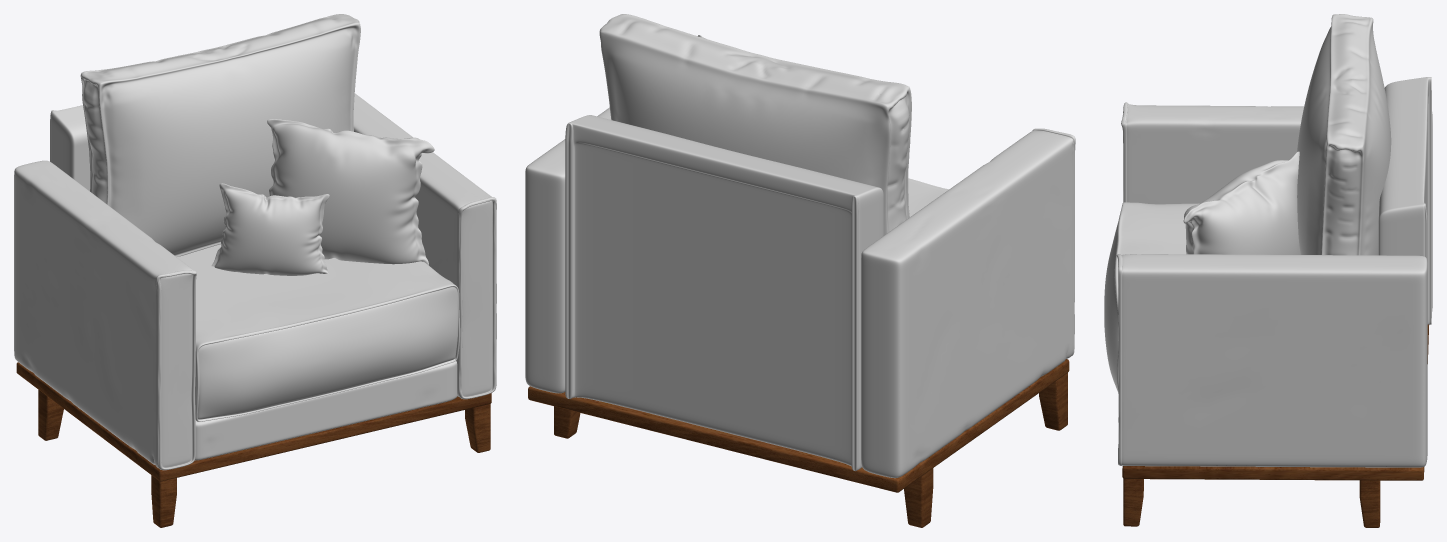
The model's file is sleek-armchair.glb.
The picture shows the model from 3 angles, left to right: view 1: azimuth 30°, elevation 25°; view 2: azimuth 150°, elevation 25°; view 3: azimuth 270°, elevation 25°; orthographic projection. The views are drawn at different scales.
Visible parts, largest first — view 1: ALMOFADINHAS, MADEIRA BASE, PÉS; view 2: ALMOFADINHAS, MADEIRA BASE, PÉS; view 3: ALMOFADINHAS, MADEIRA BASE, PÉS.
Boxes of the visible parts, x1,y1,x2,y2 form: ALMOFADINHAS: [14, 14, 496, 470]; MADEIRA BASE: [16, 362, 491, 481]; PÉS: [38, 390, 490, 527]; ALMOFADINHAS: [525, 14, 1075, 478]; MADEIRA BASE: [528, 359, 1069, 492]; PÉS: [554, 373, 1067, 527]; ALMOFADINHAS: [1104, 14, 1432, 467]; MADEIRA BASE: [1122, 324, 1428, 480]; PÉS: [1123, 478, 1380, 527].
Size of the model in its own units: 0.9121 by 0.934 by 0.7477.
Materials: 3 (2 with a texture image).
